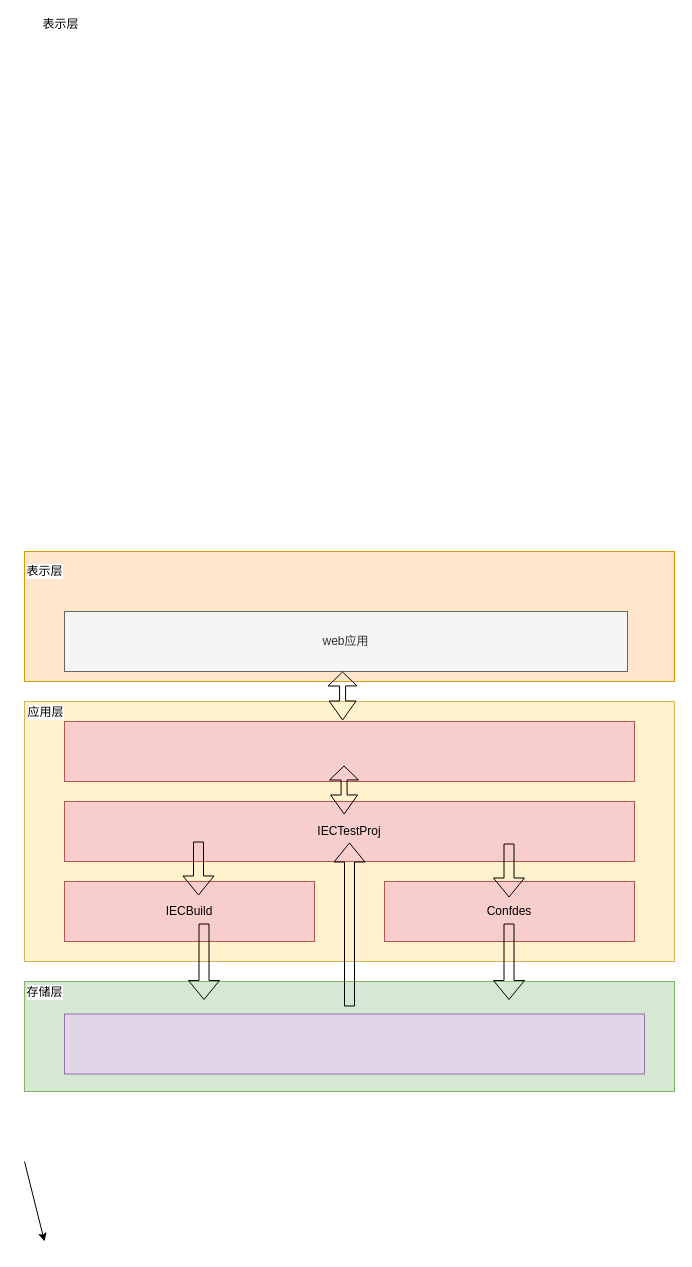
Image size: 692x1267. Some labels were removed from this diagram. Here are the shapes that lost their labels. From the top down, the centre of each, then its label:
(x=349, y=751): 应用接口API
(x=354, y=1043): 数据库
